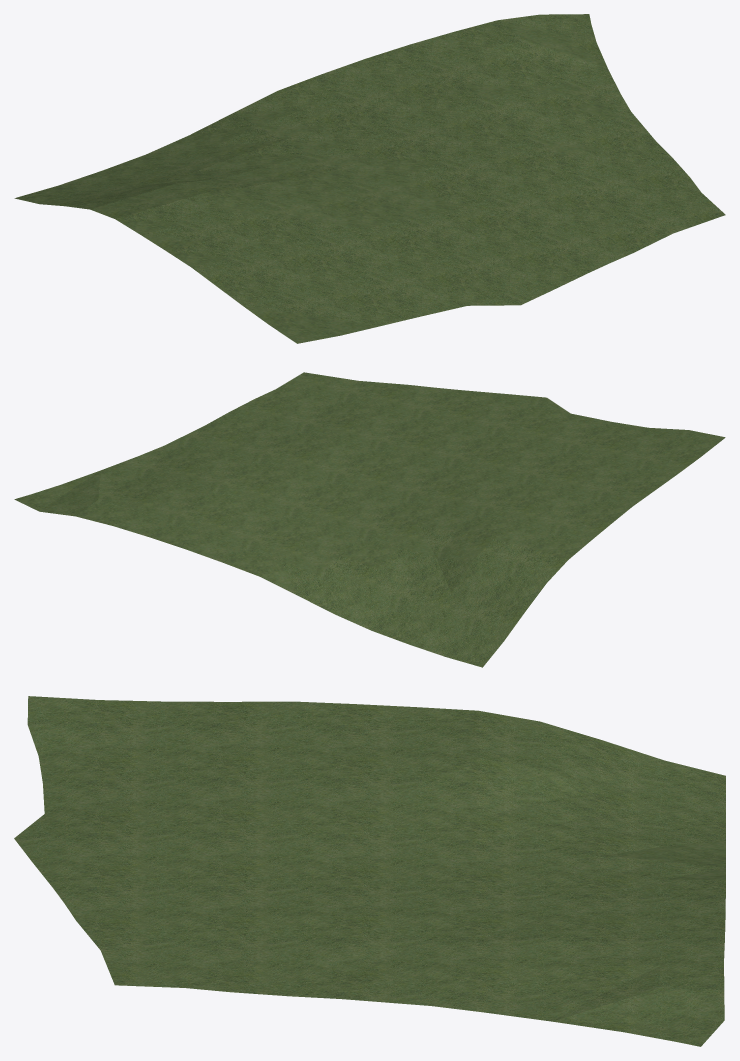
File: a_carisle_mid_landmass_02_06.fbx
3 renders of one model, top to bottom at view 1: azimuth 30°, elevation 25°; view 2: azimuth 150°, elevation 25°; view 3: azimuth 270°, elevation 25°, orthographic. The views are drawn at different scales.
Visible parts, largest first — view 1: a_carisle_mid_landmass_02_06; view 2: a_carisle_mid_landmass_02_06; view 3: a_carisle_mid_landmass_02_06.
Boxes of the visible parts, left/top/right/bottom form: a_carisle_mid_landmass_02_06: left=14, top=14, right=725, bottom=343; a_carisle_mid_landmass_02_06: left=14, top=372, right=725, bottom=667; a_carisle_mid_landmass_02_06: left=14, top=696, right=725, bottom=1046.
Size of the model in its own units: 26.32 by 23.41 by 2.84.
